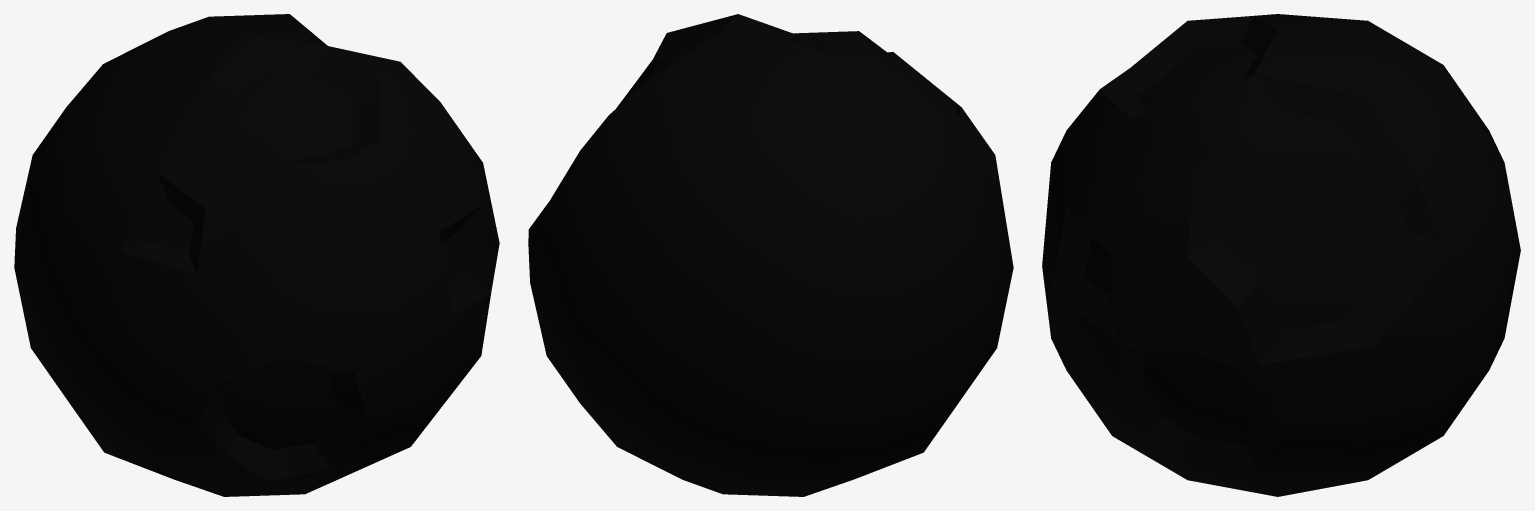
Rendered from Moon.fbx.
The picture shows the model from 3 angles, left to right: view 1: azimuth 30°, elevation 25°; view 2: azimuth 150°, elevation 25°; view 3: azimuth 270°, elevation 25°; orthographic projection.
Parts seen in each view (by area): view 1: Moon; view 2: Moon; view 3: Moon.
Boxes of the visible parts, x1,y1,x2,y2 form: Moon: (14,14,499,496); Moon: (528,14,1013,496); Moon: (1042,14,1520,496).
Bounding box in the file's own units: 473 × 480 × 473.
